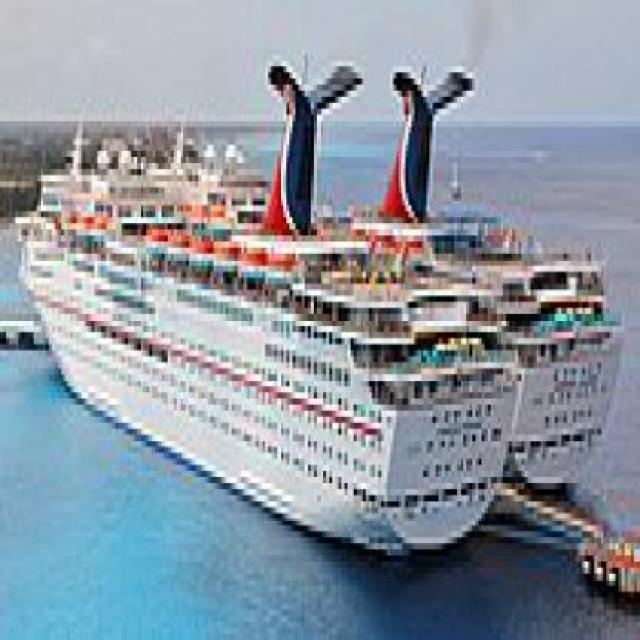cruise: (13, 104, 529, 575)
